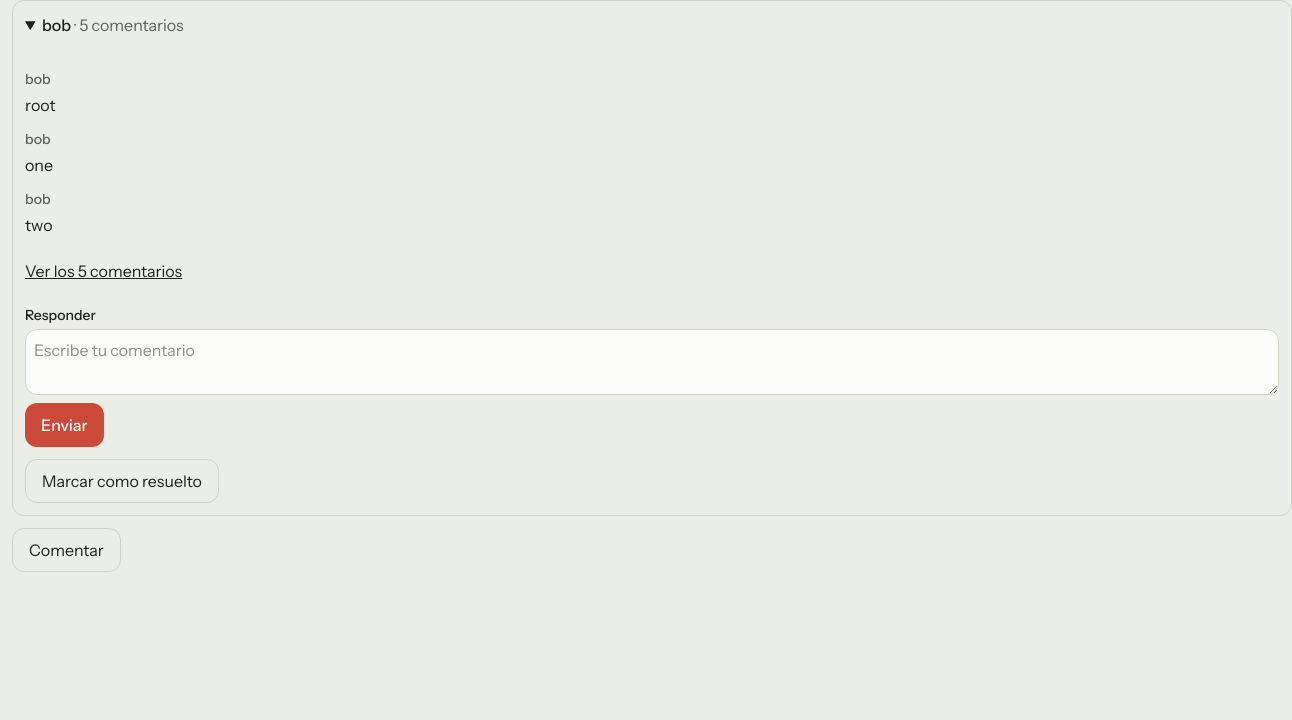
Scenario: Thread › fetches the rest of a long thread only when asked
The image size is (1292, 720).
Check: the text "four" is not shown
Click the button "Ver los 5 comentarios" at (104, 271), box [25,249,182,293]
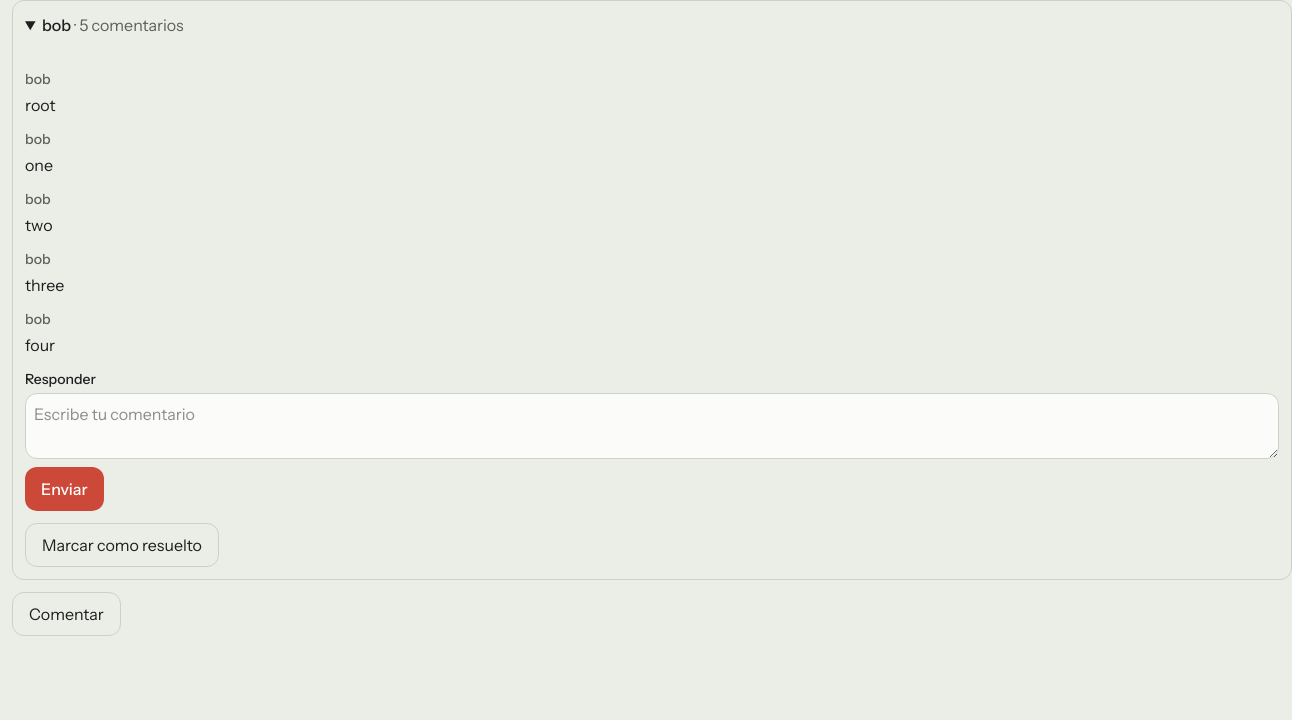
Check: the text "four" is shown, box [25,335,55,355]
